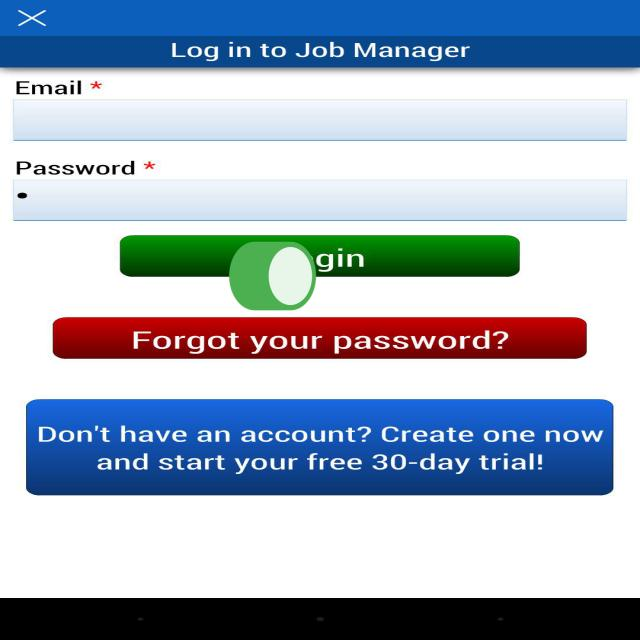social proof: (225, 215, 320, 342)
